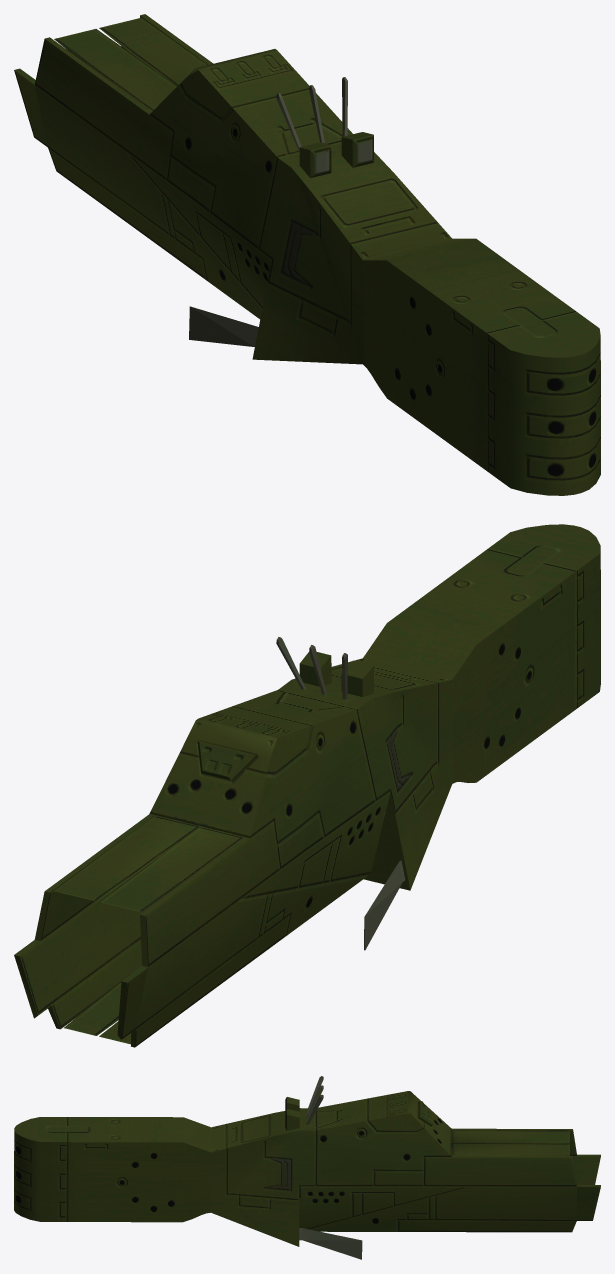
File: fpa_destroyer.obj
The picture shows the model from 3 angles, top to bottom: view 1: azimuth 30°, elevation 25°; view 2: azimuth 150°, elevation 25°; view 3: azimuth 270°, elevation 25°; orthographic projection. The views are drawn at different scales.
Visible parts, largest first — view 1: fpa_destroyer; view 2: fpa_destroyer; view 3: fpa_destroyer.
Part boxes in pixels (left/top/right/bottom): fpa_destroyer: left=14, top=14, right=600, bottom=495; fpa_destroyer: left=14, top=524, right=600, bottom=1047; fpa_destroyer: left=14, top=1076, right=600, bottom=1259.
Bounding box in the file's own units: 20.8 × 29.13 × 104.
